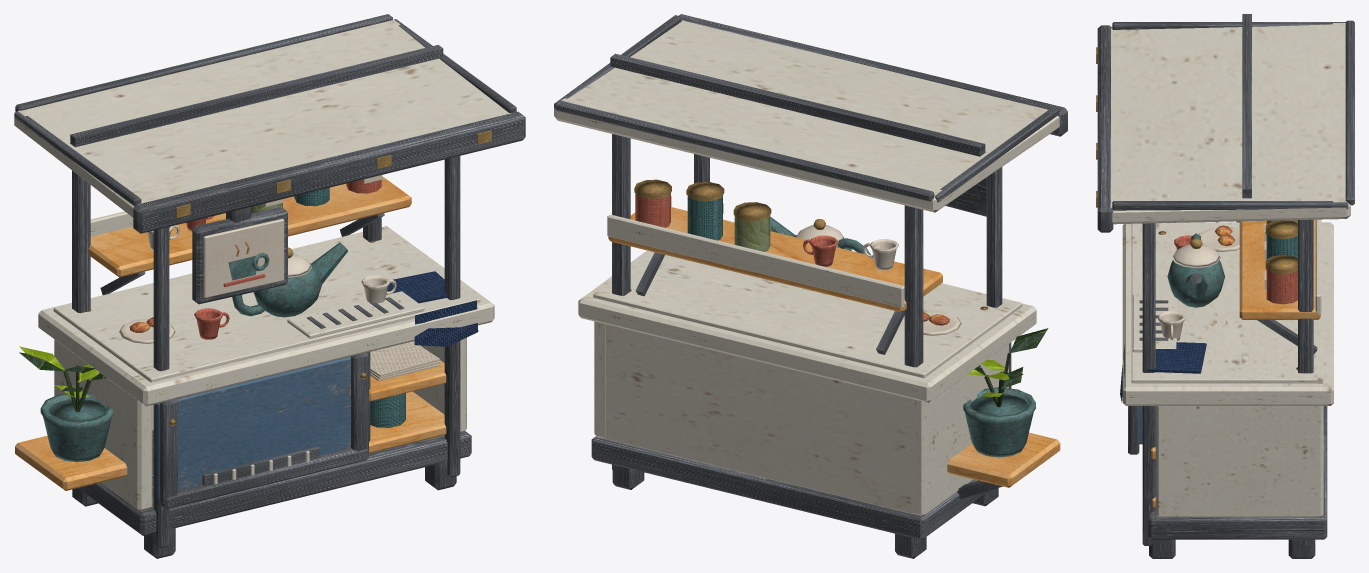
The model's file is endfield_pbr_anime_tea_kiosk.glb.
3 views of the same model, side by side, from view 1: azimuth 30°, elevation 25°; view 2: azimuth 150°, elevation 25°; view 3: azimuth 270°, elevation 25° (orthographic). The views are drawn at different scales.
Parts seen in each view (by area): view 1: tea_kiosk; view 2: tea_kiosk; view 3: tea_kiosk.
Boxes of the visible parts, x1,y1,x2,y2 form: tea_kiosk: (14,14,525,558); tea_kiosk: (554,14,1067,558); tea_kiosk: (1096,14,1354,558).
Size of the model in its own units: 2.52 by 2.26 by 1.37.
3 materials, 3 textured.
